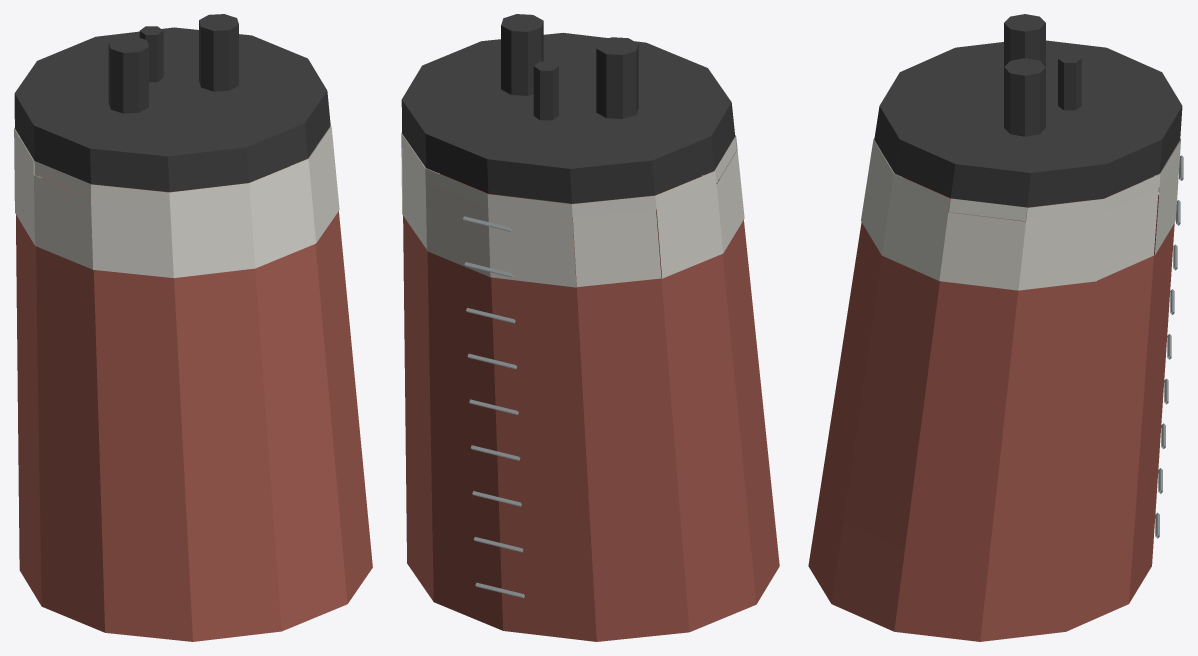
File: ext_funnel.fbx
3 renders of one model, left to right at view 1: azimuth 30°, elevation 25°; view 2: azimuth 150°, elevation 25°; view 3: azimuth 270°, elevation 25°, orthographic. The views are drawn at different scales.
Visible parts, largest first — view 1: ext_funnel; view 2: ext_funnel; view 3: ext_funnel.
Part boxes in pixels (box(x1,y1,x2,y2)): ext_funnel: box(14, 14, 372, 641); ext_funnel: box(401, 14, 779, 641); ext_funnel: box(808, 14, 1183, 641).
Bounding box in the file's own units: 2.4 × 3.85 × 2.51.
